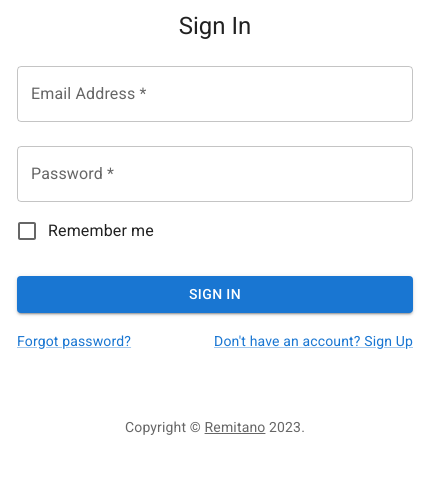
Test: signin-page › signin page - validate input
This screenshot has width=431, height=497.
// empty inputs
Click the button "Sign In".
click(215, 294)  # box 17,276 -> 413,312
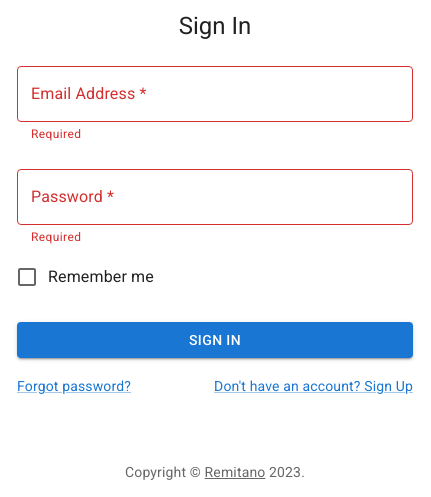
Check: the text "Required" is shown 2 times, box 31,127 -> 81,141; 31,230 -> 81,244
